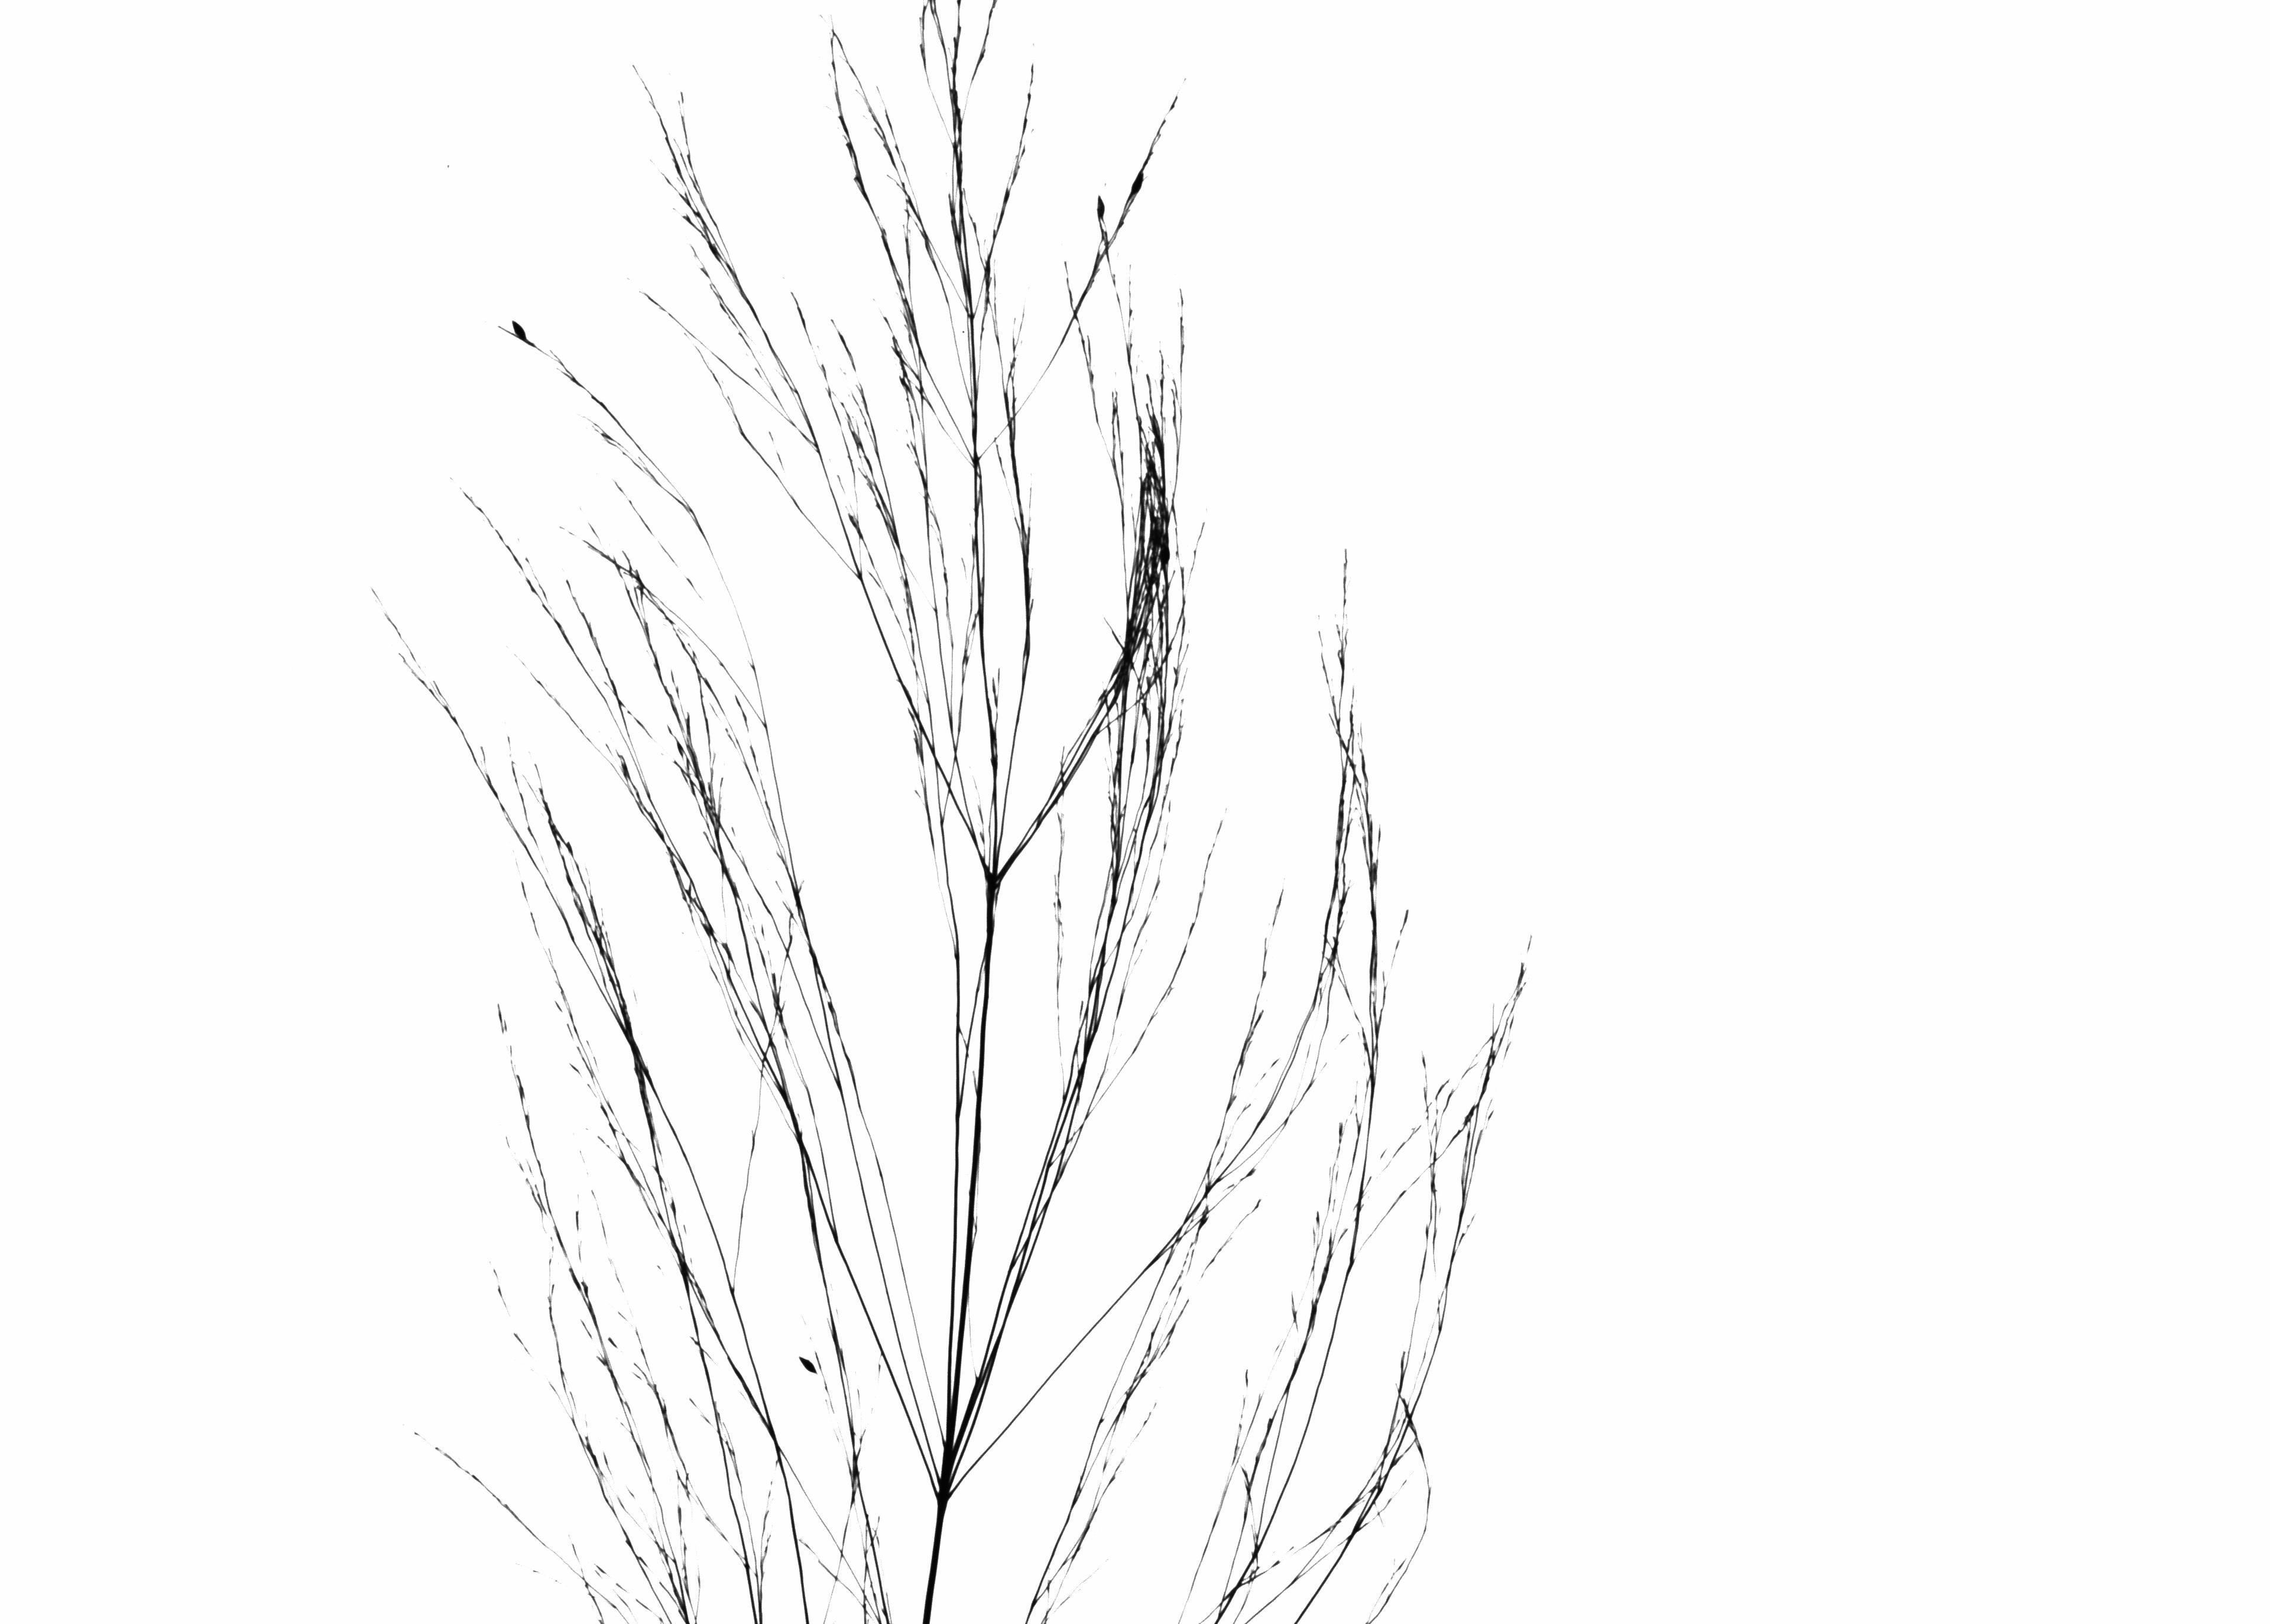seed: (503, 315, 533, 344), (1129, 163, 1148, 200), (797, 1350, 821, 1378), (1092, 188, 1111, 221)
